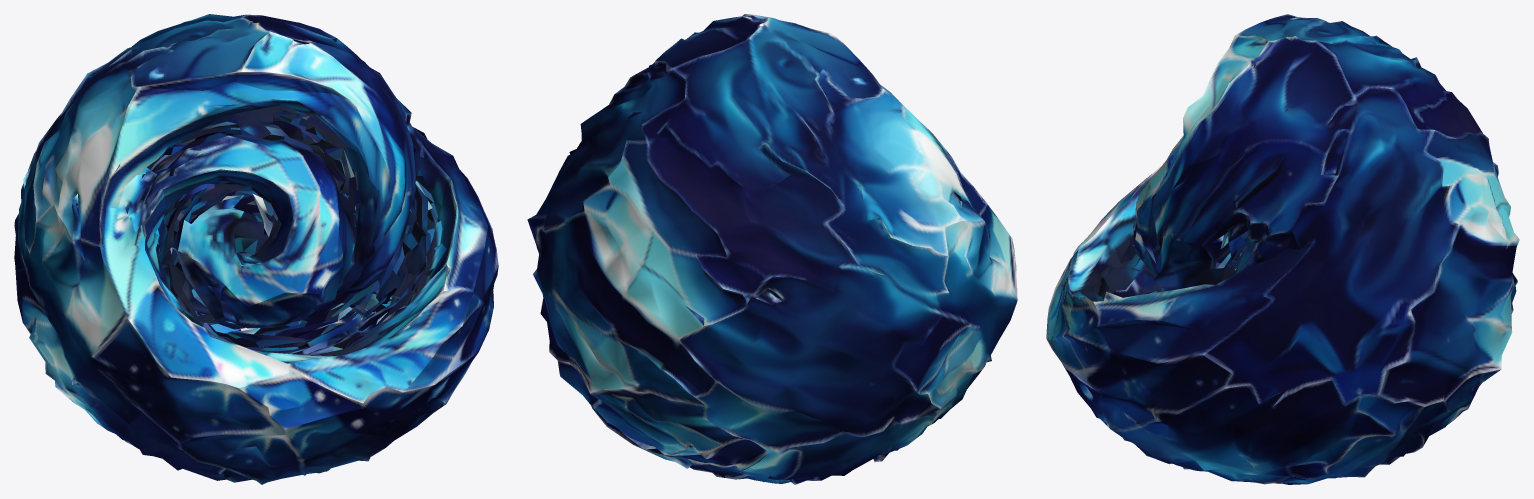
File: blue_gem-f5cNwayA.glb
3 renders of one model, left to right at view 1: azimuth 30°, elevation 25°; view 2: azimuth 150°, elevation 25°; view 3: azimuth 270°, elevation 25°, orthographic. The views are drawn at different scales.
Parts seen in each view (by area): view 1: tmp552khma3.ply; view 2: tmp552khma3.ply; view 3: tmp552khma3.ply.
Part boxes in pixels (bbox=[...]): tmp552khma3.ply: bbox=[14, 14, 498, 484]; tmp552khma3.ply: bbox=[527, 14, 1017, 484]; tmp552khma3.ply: bbox=[1046, 14, 1519, 484].
Bounding box in the file's own units: 1.99 × 2.01 × 1.99.
1 material, 1 textured.
